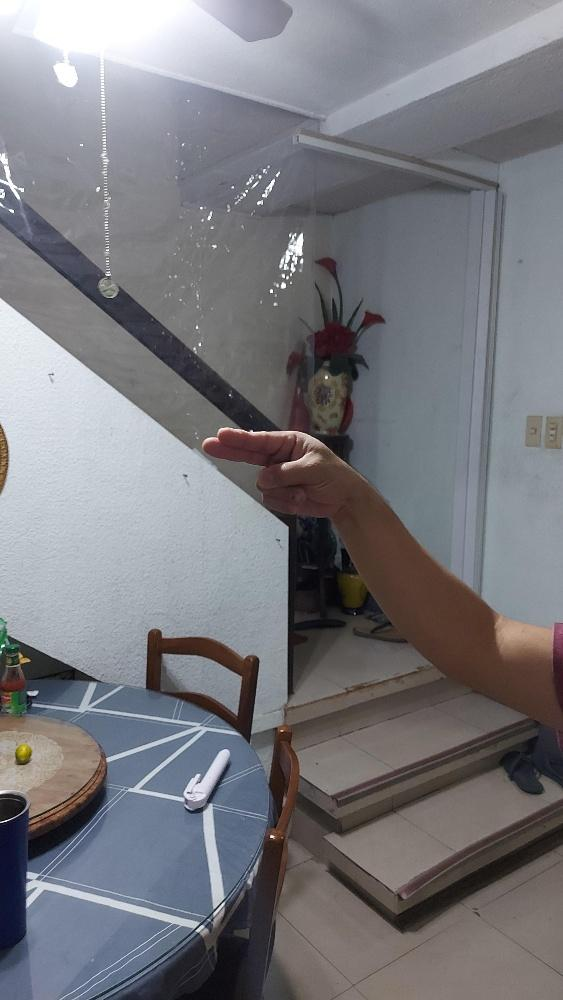n: (200, 425, 351, 517)
